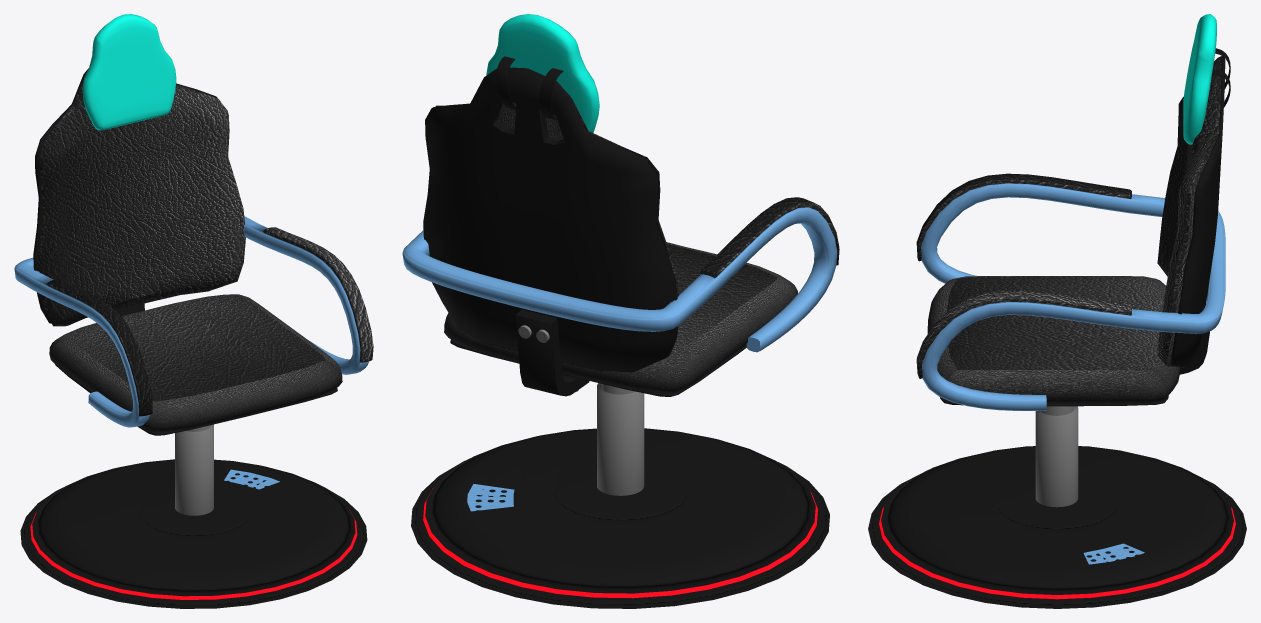
The model's file is chair_tier18.fbx.
3 renders of one model, left to right at view 1: azimuth 30°, elevation 25°; view 2: azimuth 150°, elevation 25°; view 3: azimuth 270°, elevation 25°, orthographic. The views are drawn at different scales.
Parts seen in each view (by area): view 1: Plane, Cylinder.003, Cube, BezierCurve, Cube.001, Cylinder.002, Cylinder.001, Cube.003; view 2: Plane, Cylinder.003, BezierCurve, Cube, Cylinder.002, Cube.001, Cylinder.001, Cube.005, BezierCurve.002, Cube.003, BezierCurve.001; view 3: Cylinder.003, Cube, BezierCurve, Plane, Cylinder.002, Cylinder.001, Cube.001.
Part boxes in pixels (x1,y1,x2,y2): Plane: (33,68,245,326); Cylinder.003: (20,459,367,608); Cube: (49,294,342,431); BezierCurve: (14,216,373,427); Cube.001: (82,14,176,130); Cylinder.002: (139,485,249,539); Cylinder.001: (175,424,213,515); Cube.003: (55,364,337,435); Plane: (423,67,678,372); Cylinder.003: (411,428,829,608); BezierCurve: (402,197,839,352); Cube: (444,242,797,392); Cylinder.002: (553,459,687,524); Cube.001: (486,14,599,132); Cylinder.001: (597,383,644,495); Cube.005: (515,309,589,396); BezierCurve.002: (539,68,563,120); Cube.003: (450,339,746,396); BezierCurve.001: (496,56,515,110); Cylinder.003: (868,446,1246,608); Cube: (927,276,1180,403); BezierCurve: (916,173,1225,410); Plane: (1157,56,1225,367); Cylinder.002: (996,474,1117,533); Cylinder.001: (1035,406,1078,507); Cube.001: (1183,14,1216,144).
Bounding box in the file's own units: 96.91 × 144 × 96.91.
